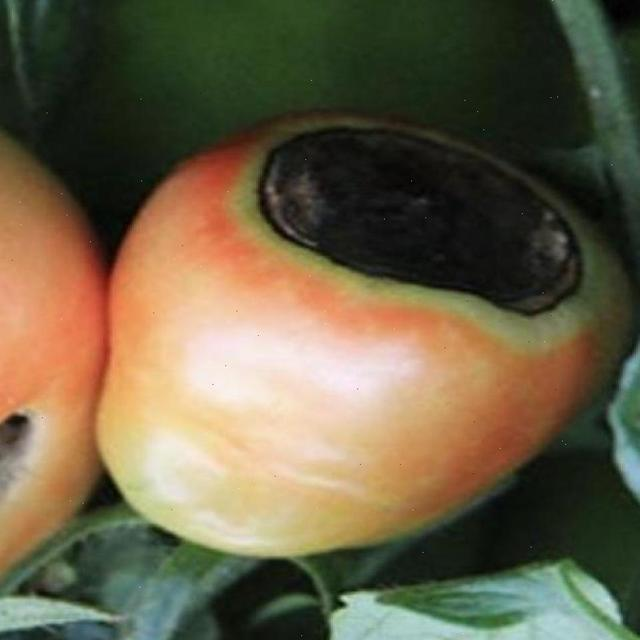Blossom End Rot Fruit: (17, 68, 282, 308)
